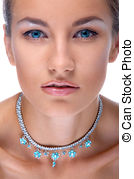face: (2, 1, 118, 121)
